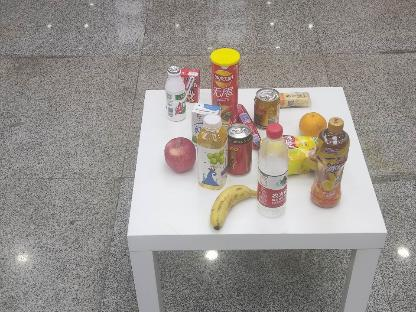Can: (227, 123, 251, 175), (255, 88, 280, 128)
Others: (210, 46, 242, 126), (191, 102, 223, 148), (178, 66, 200, 106)
Plastic Bottle: (246, 120, 294, 222)
